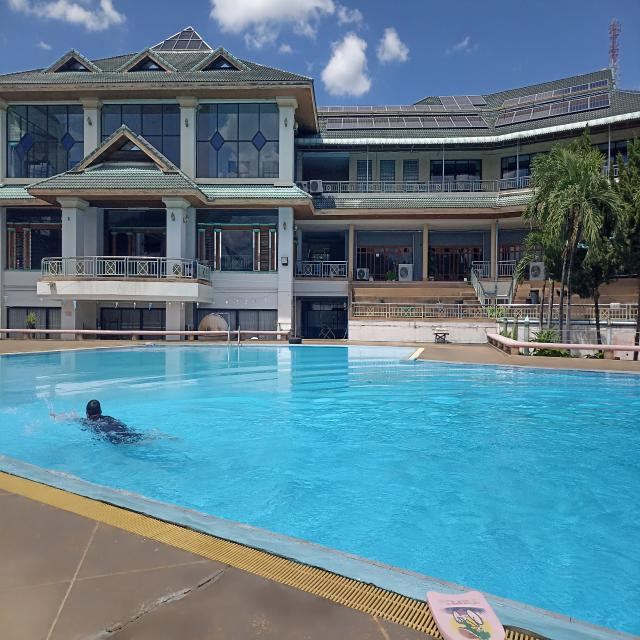Swimming: (43, 386, 166, 461)
